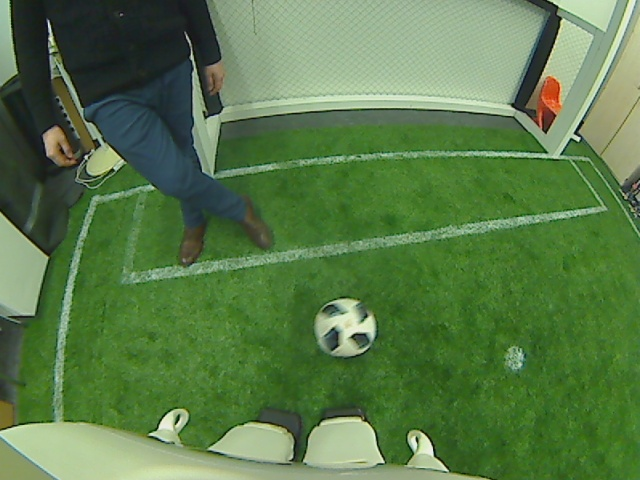ball: (311, 296, 379, 358)
